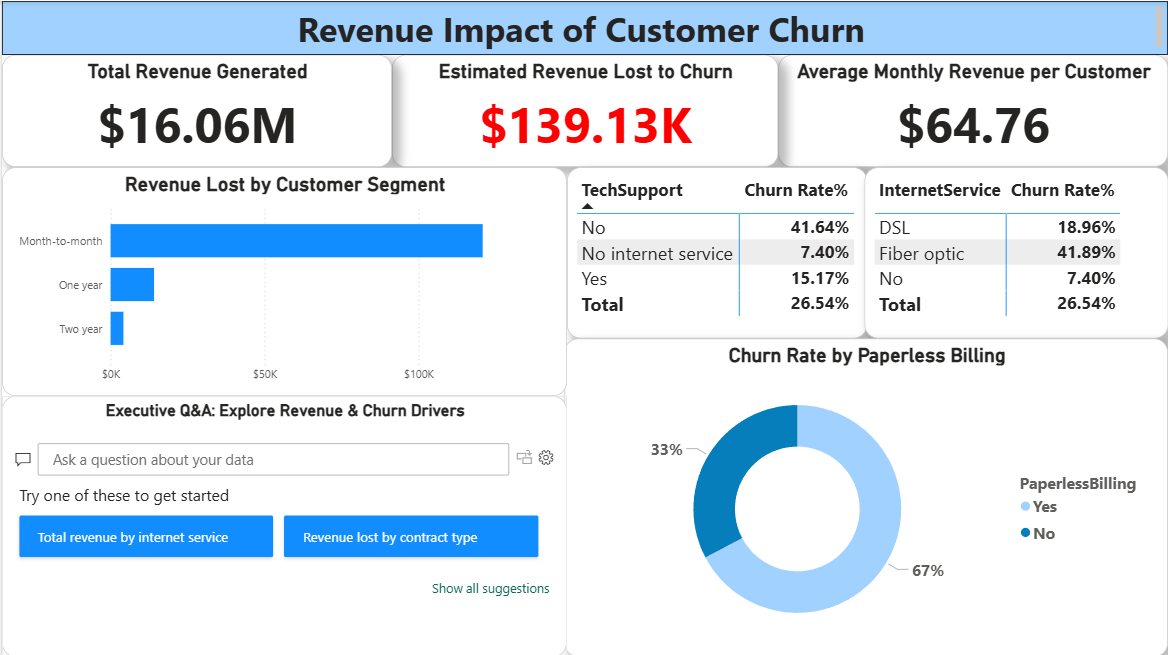

Layout of this report page (visuals, bound fields, positions):
{"tool":"powerbi","page":{"name":"Page 2","canvas":[1280,720],"ordinal":1},"visuals":[{"type":"card","title":"Average Monthly Revenue per Customer ","fields":{"Values":["_Key_Measures.Average Monthly Charge"]},"box":[852.1,59,428.1,123.5],"z":0},{"type":"card","title":"Estimated Revenue Lost to Churn","fields":{"Values":["_Key_Measures.Revenue lost"]},"box":[428.1,59,424,123.5],"z":1000},{"type":"card","title":"Total Revenue Generated","fields":{"Values":["_Key_Measures.Total Charges"]},"box":[0,59,428.1,123.5],"z":2000},{"type":"pivotTable","fields":{"Rows":["Teleco_Churn_Analysis.TechSupport"],"Values":["_Key_Measures.Churn Rate%"]},"box":[620.2,182.5,329.3,188],"z":3000},{"type":"pivotTable","fields":{"Values":["_Key_Measures.Churn Rate%"],"Rows":["Teleco_Churn_Analysis.InternetService"]},"box":[946.8,182.5,333.4,188],"z":4000},{"type":"donutChart","title":"Churn Rate by Paperless Billing","fields":{"Category":["Teleco_Churn_Analysis.PaperlessBilling"],"Y":["_Key_Measures.Churn Rate%"]},"box":[617.5,370.5,662.8,349.9],"z":5000},{"type":"textbox","box":[0,0,1280.3,59],"z":6000},{"type":"qnaVisual","title":"Executive Q&A: Explore Revenue & Churn Drivers","box":[0,433.6,620.2,286.8],"z":7000},{"type":"barChart","title":"Revenue Lost by Customer Segment","fields":{"Category":["Teleco_Churn_Analysis.Contract"],"Y":["_Key_Measures.Revenue lost"]},"box":[0,182.5,620.2,251.1],"z":8000}]}

Visuals, with their boxes in screenshot pixels (x1, y1, x2, y2), scaled from the page's 1280x720 canvas onto the 1168x655 screenshot:
"Average Monthly Revenue per Customer " card: l=778, t=54, r=1167, b=166
"Estimated Revenue Lost to Churn" card: l=391, t=54, r=778, b=166
"Total Revenue Generated" card: l=0, t=54, r=391, b=166
pivotTable - Teleco_Churn_Analysis.TechSupport x _Key_Measures.Churn Rate%: l=566, t=166, r=866, b=337
pivotTable - _Key_Measures.Churn Rate% x Teleco_Churn_Analysis.InternetService: l=864, t=166, r=1167, b=337
"Churn Rate by Paperless Billing" donutChart: l=563, t=337, r=1167, b=654
textbox: l=0, t=0, r=1167, b=54
"Executive Q&A: Explore Revenue & Churn Drivers" qnaVisual: l=0, t=394, r=566, b=654
"Revenue Lost by Customer Segment" barChart: l=0, t=166, r=566, b=394
